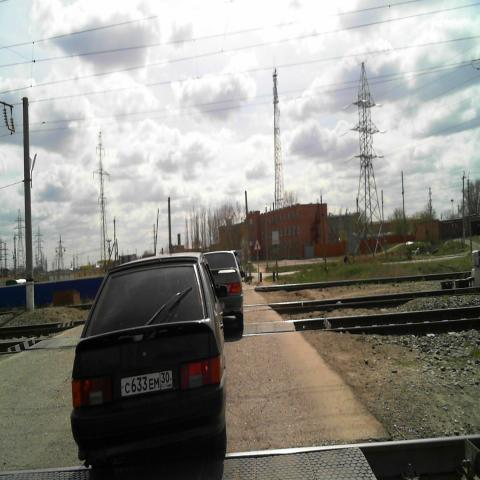2_3: (253, 238, 261, 250)
